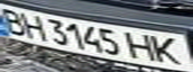1: (63, 20, 84, 50)
3: (42, 16, 69, 46)
4: (81, 24, 103, 53)
5: (100, 26, 124, 56)
B: (0, 6, 30, 35)
H: (124, 29, 160, 61), (18, 11, 48, 40)
K: (145, 34, 190, 66)
